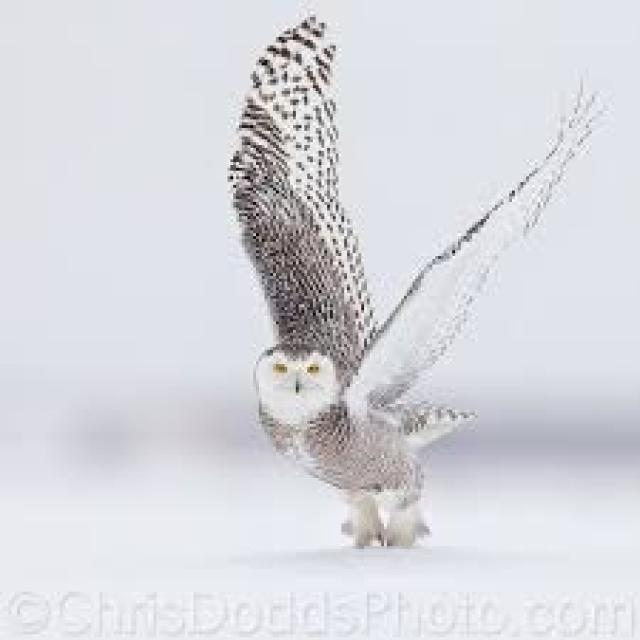snowy owl: (142, 7, 615, 564)
